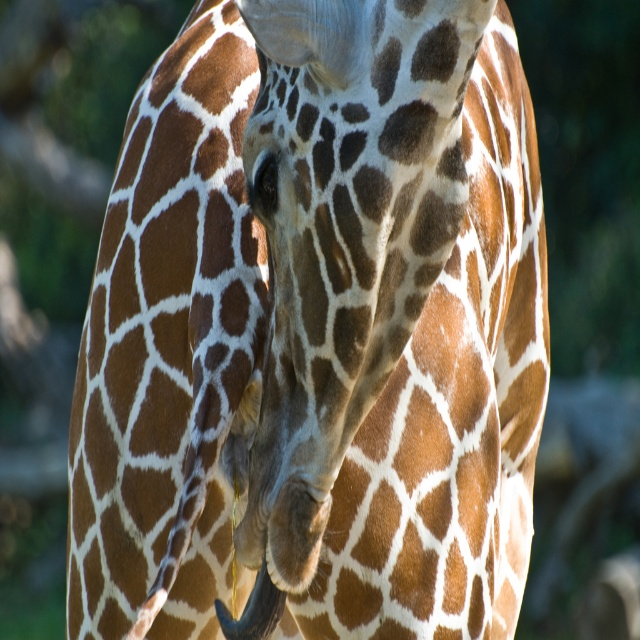Giraffe: (64, 17, 566, 640)
